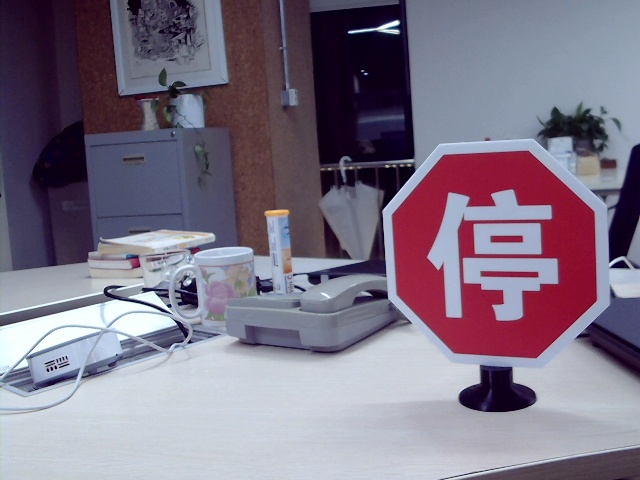stop: (428, 181, 562, 323)
